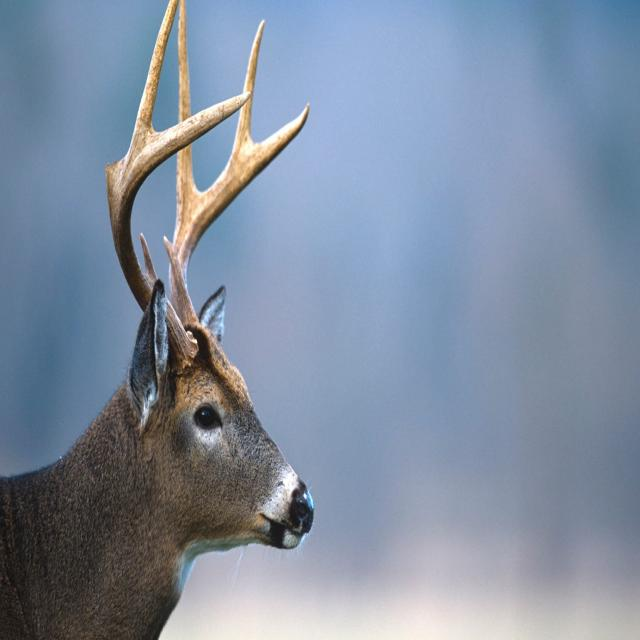Deer: (0, 25, 309, 640)
